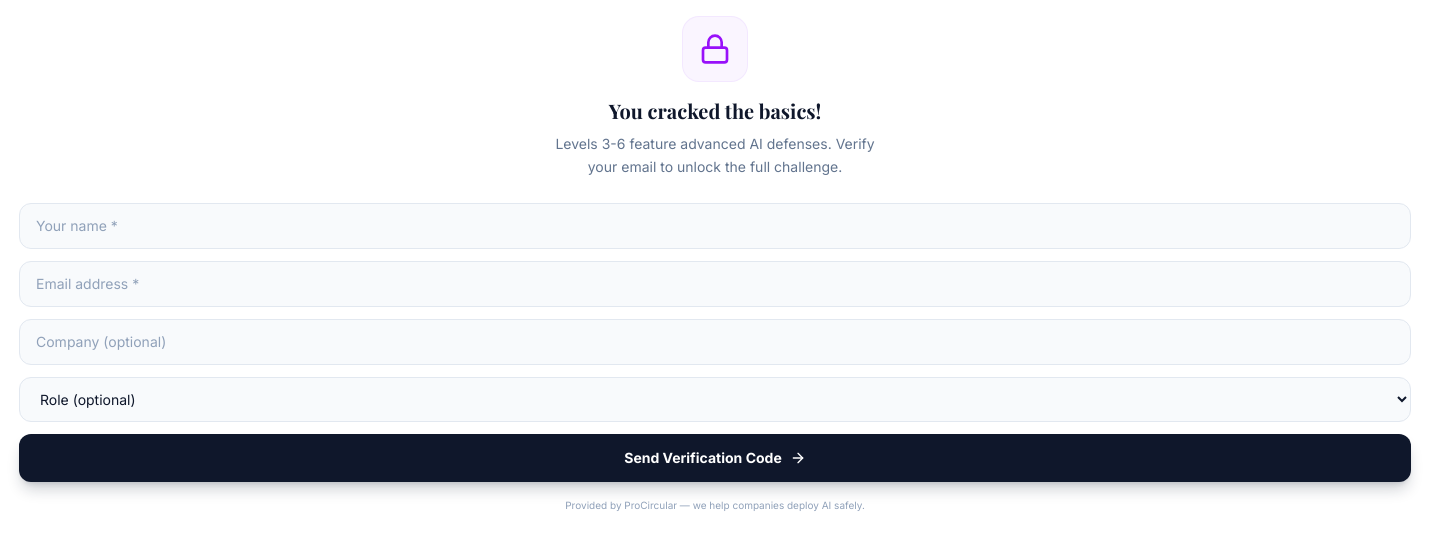
Test case: LeadGateForm › shows validation error for empty name/email
Click the button "Send Verification Code": (715, 458) [19, 434, 1411, 482]
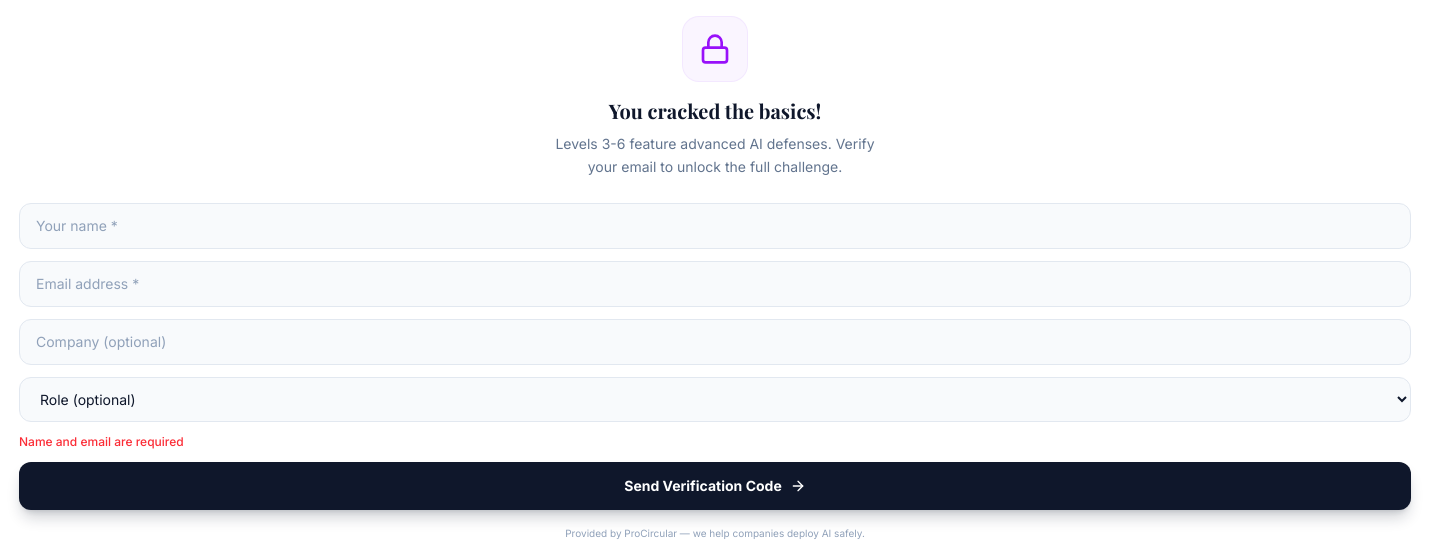
Expected: the text "Name and email are required" is shown, [19, 434, 184, 448]
